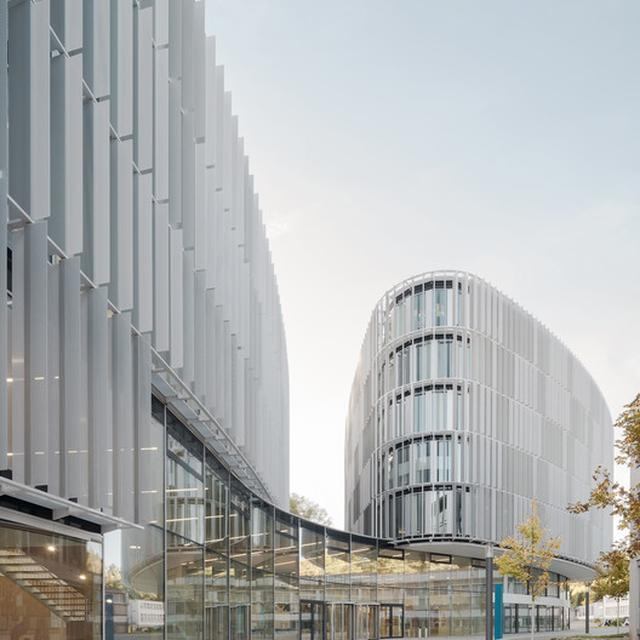building: (0, 0, 296, 544), (345, 265, 617, 640)
